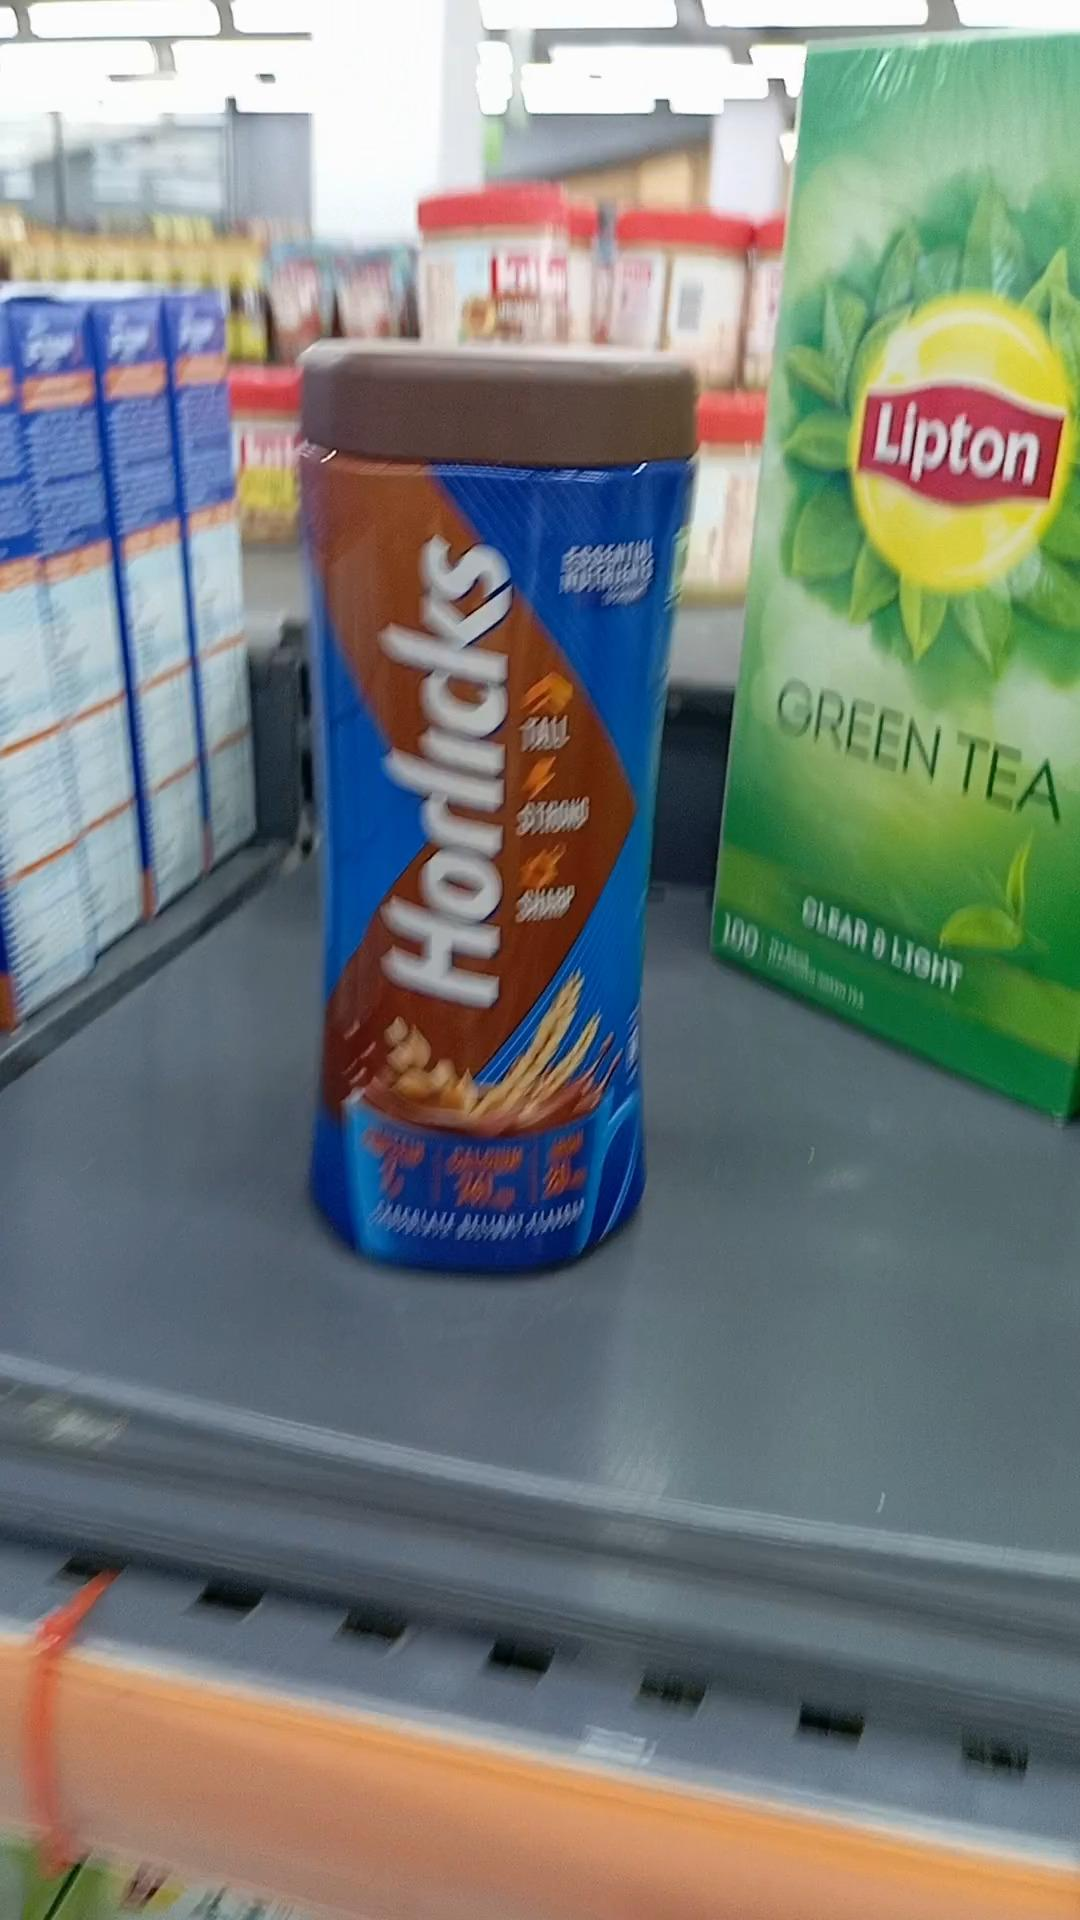HORLICK_CHOCOLATE_500_G_JAR: (290, 326, 659, 1266)
